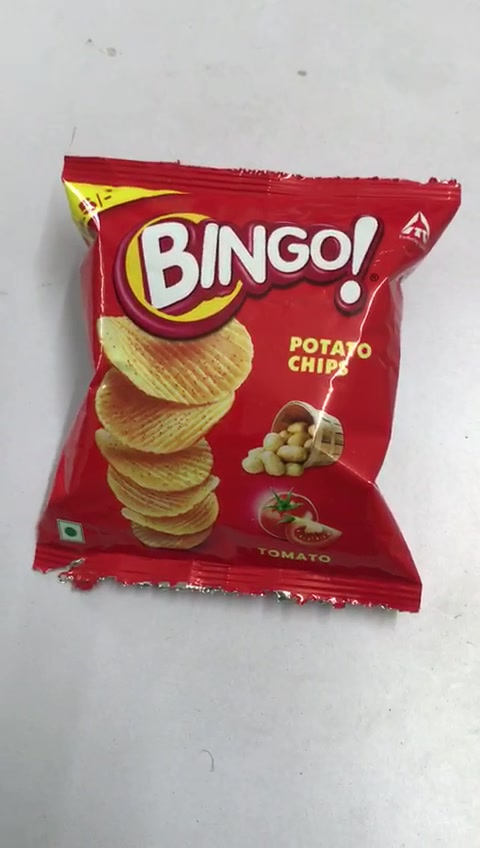bingo: (24, 148, 455, 620)
